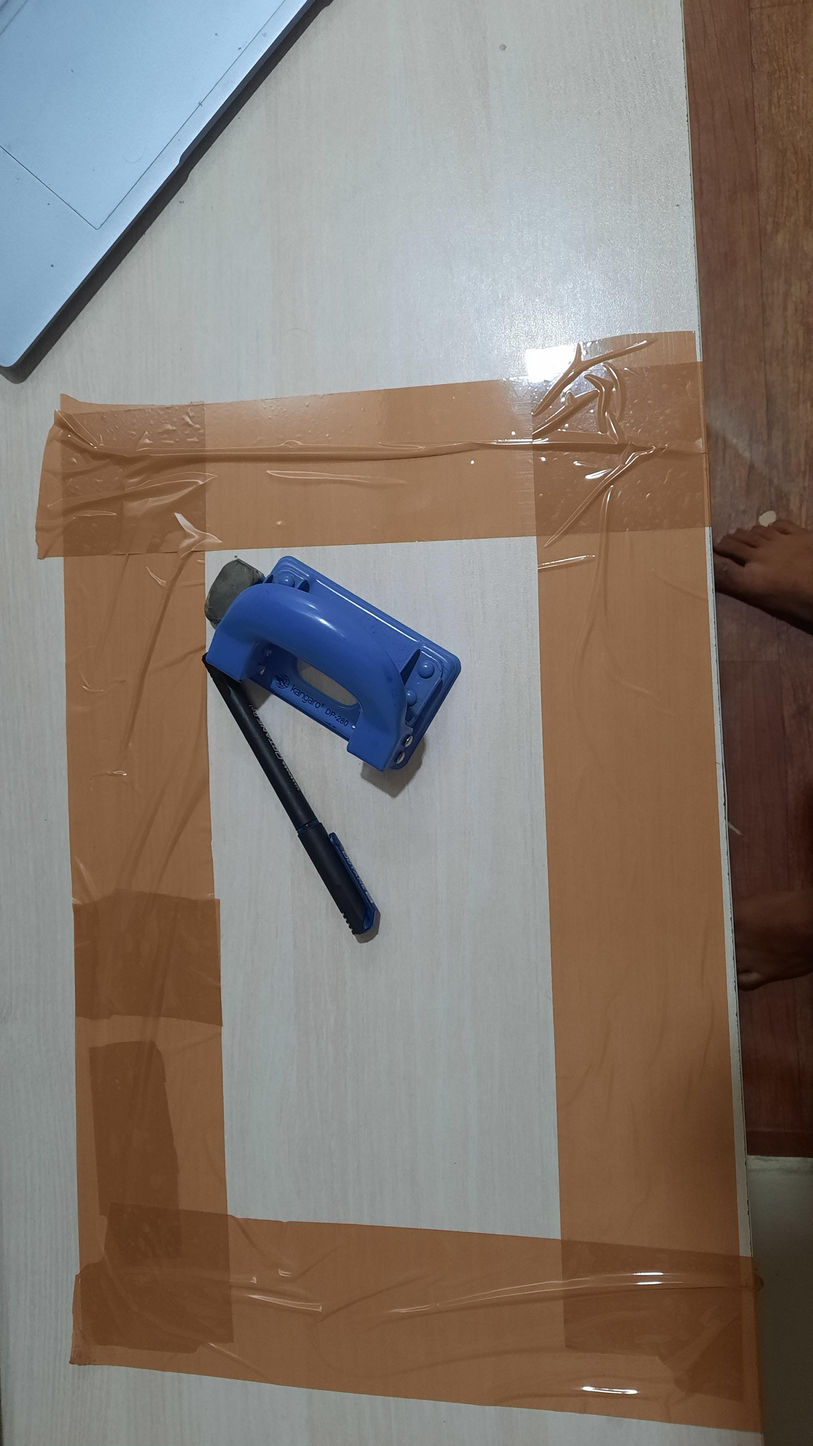Eraser: (204, 558, 265, 631)
Pen: (202, 655, 379, 938)
Punch: (205, 556, 461, 773)
